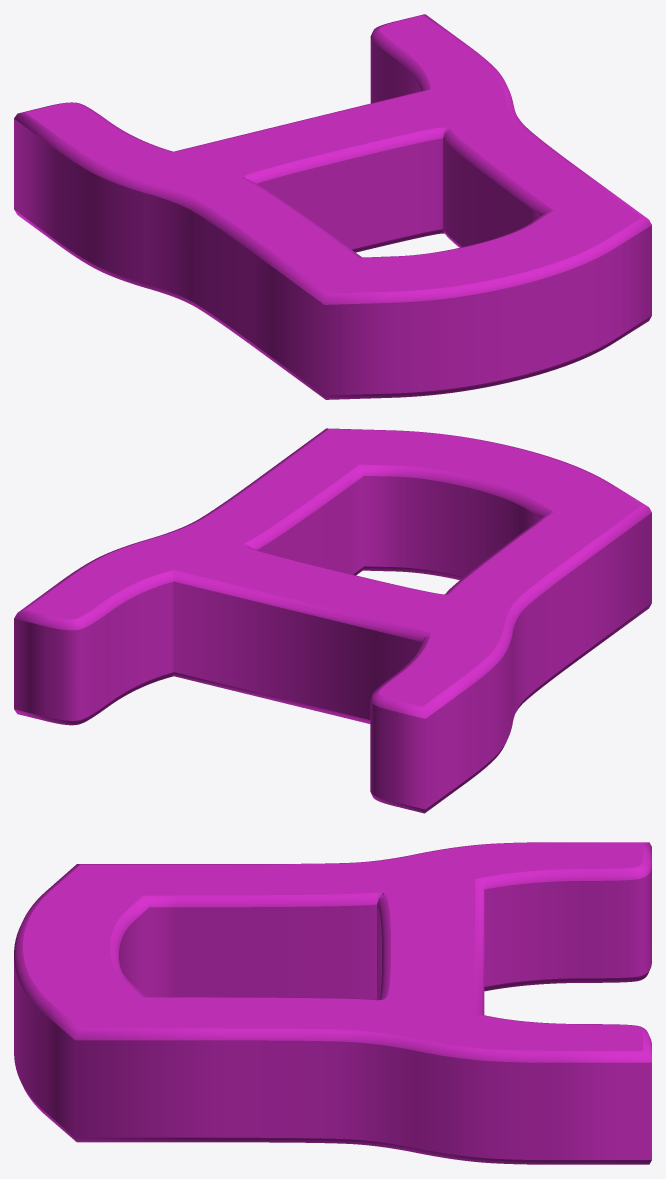
The model's file is Letter_A_Capital_CoolFont.fbx.
3 views of the same model, one above another, from view 1: azimuth 30°, elevation 25°; view 2: azimuth 150°, elevation 25°; view 3: azimuth 270°, elevation 25° (orthographic). The views are drawn at different scales.
Parts seen in each view (by area): view 1: Letter_A; view 2: Letter_A; view 3: Letter_A.
Boxes of the visible parts, x1,y1,x2,y2 form: Letter_A: (14, 14, 651, 399); Letter_A: (14, 428, 651, 813); Letter_A: (14, 842, 651, 1164).
Bounding box in the file's own units: 0.5707 × 0.14 × 0.7126.
